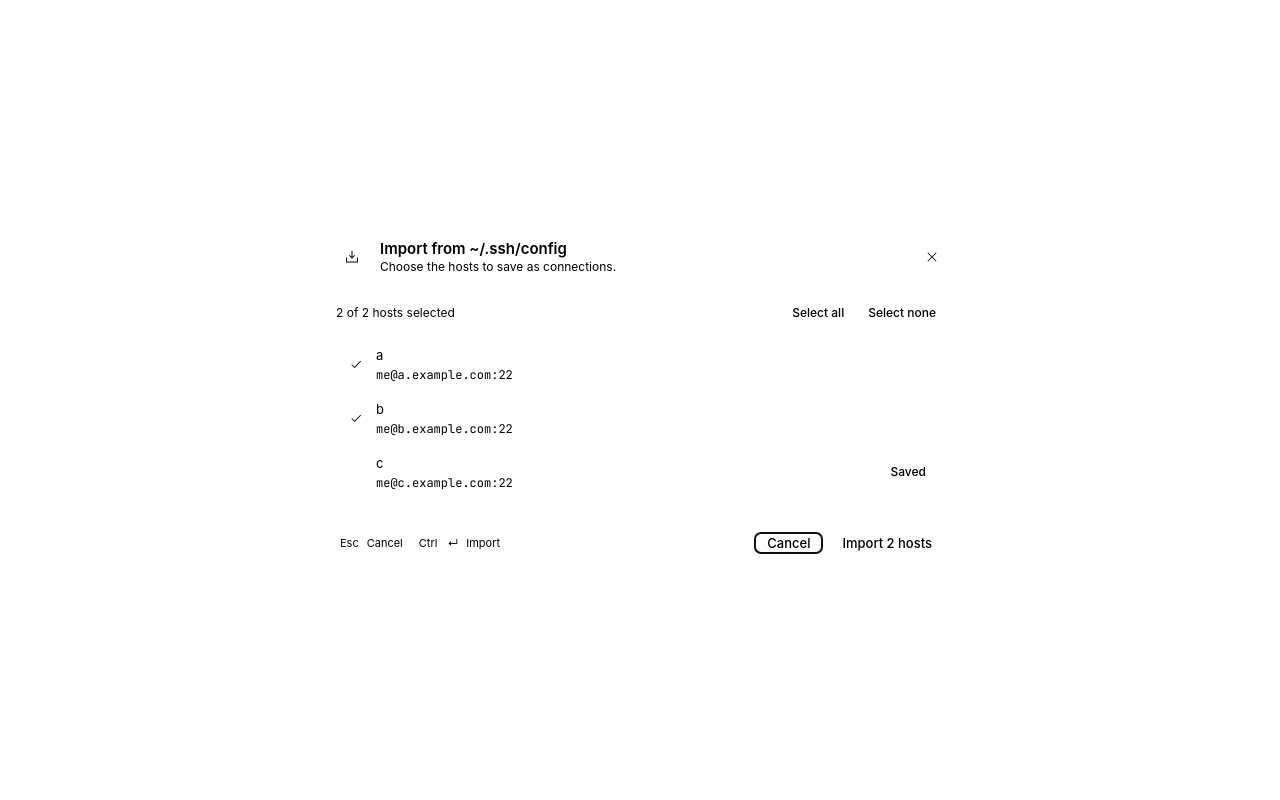
Scenario: SshConfigImportDialog › selects all and none
expect the checkbox named "a" is shown: met, box [348,356,364,372]
Click the button "Select none".
click(902, 313)  # box [860,301,944,325]
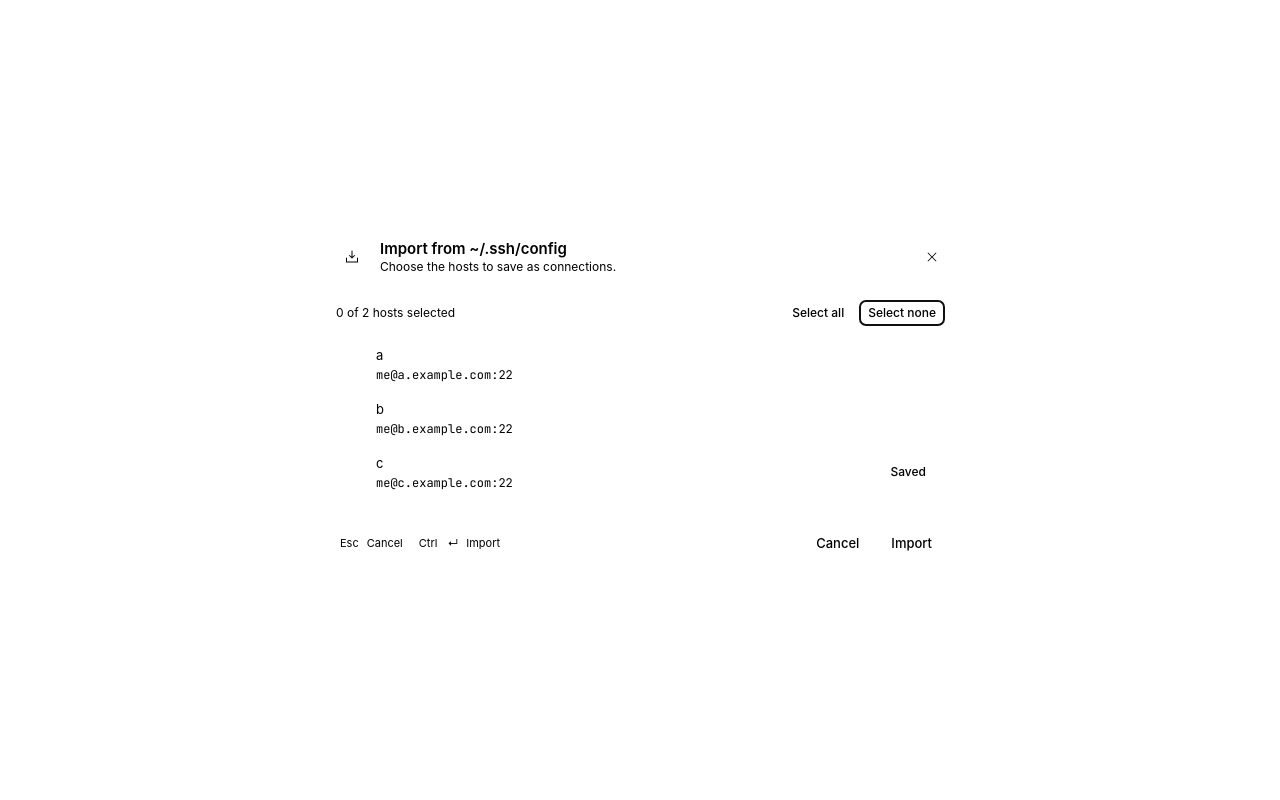
expect the button "Import" is disabled: met, box [879,533,944,553]
Click the button "Select all".
click(818, 313)  # box [784,301,852,325]
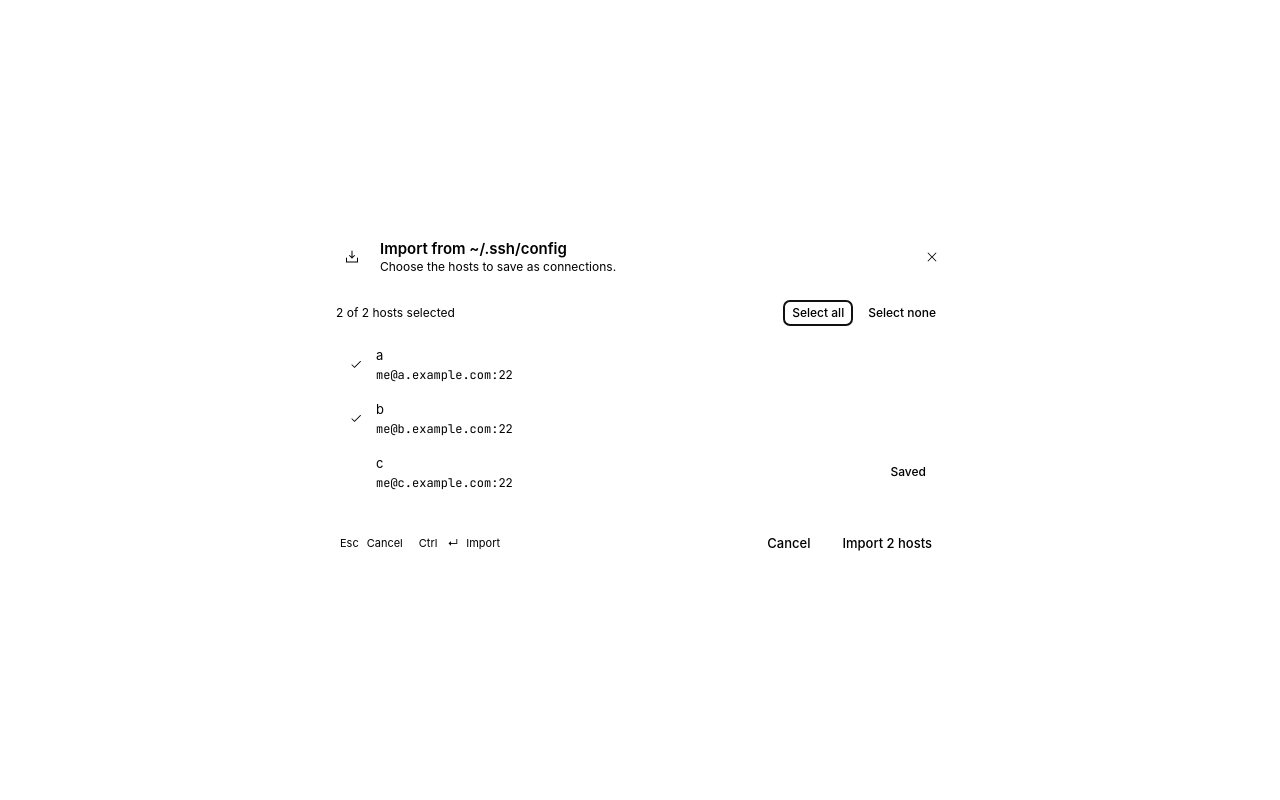
expect the checkbox named "b" is checked: met, box [348,410,364,426]
expect the button "Import 2 hosts" is enabled: met, box [830,533,944,553]
